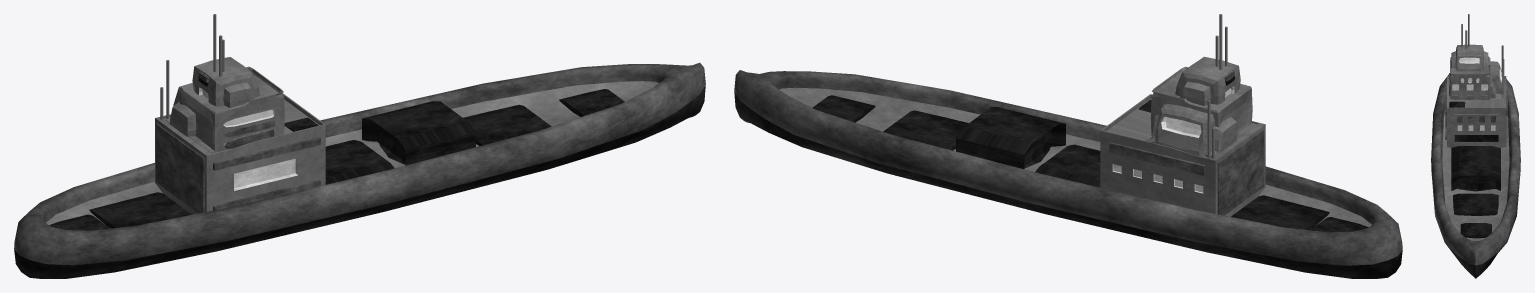
The model's file is Battleship.fbx.
The picture shows the model from 3 angles, left to right: view 1: azimuth 30°, elevation 25°; view 2: azimuth 150°, elevation 25°; view 3: azimuth 270°, elevation 25°; orthographic projection. The views are drawn at different scales.
Parts seen in each view (by area): view 1: Cube.001; view 2: Cube.001; view 3: Cube.001.
Part boxes in pixels (x1,y1,x2,y2): Cube.001: (14, 14, 705, 278); Cube.001: (734, 14, 1402, 278); Cube.001: (1431, 14, 1520, 278).
Size of the model in its own units: 1153 by 361 by 228.
